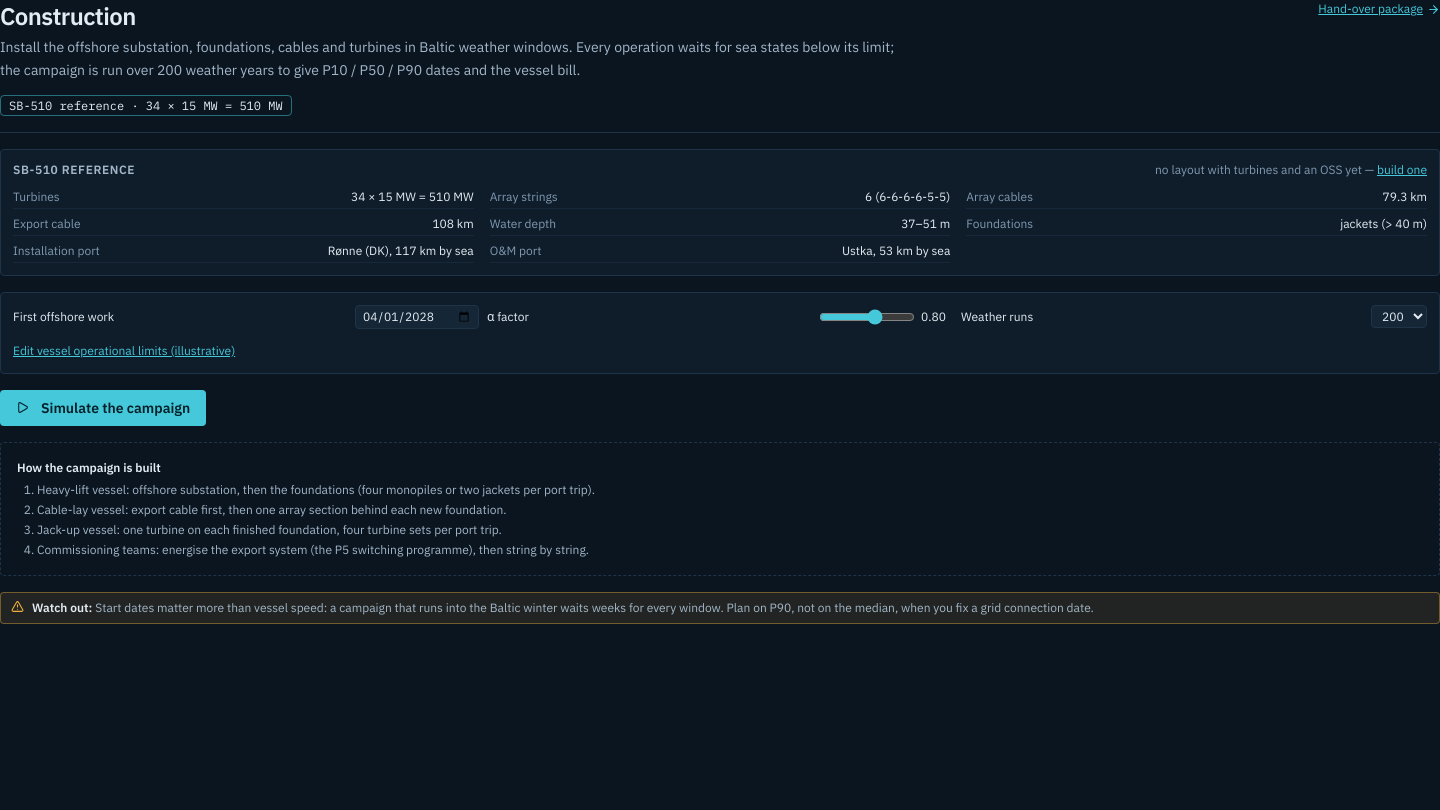
Scenario: lifecycle pages › construction: runs the campaign for SB-510 and shows the milestones
Check: the heading "SB-510 reference" is shown, box left=13, top=162, right=135, bottom=178
Click the button "Simulate the campaign" at x=103, y=408, box left=0, top=390, right=206, bottom=426
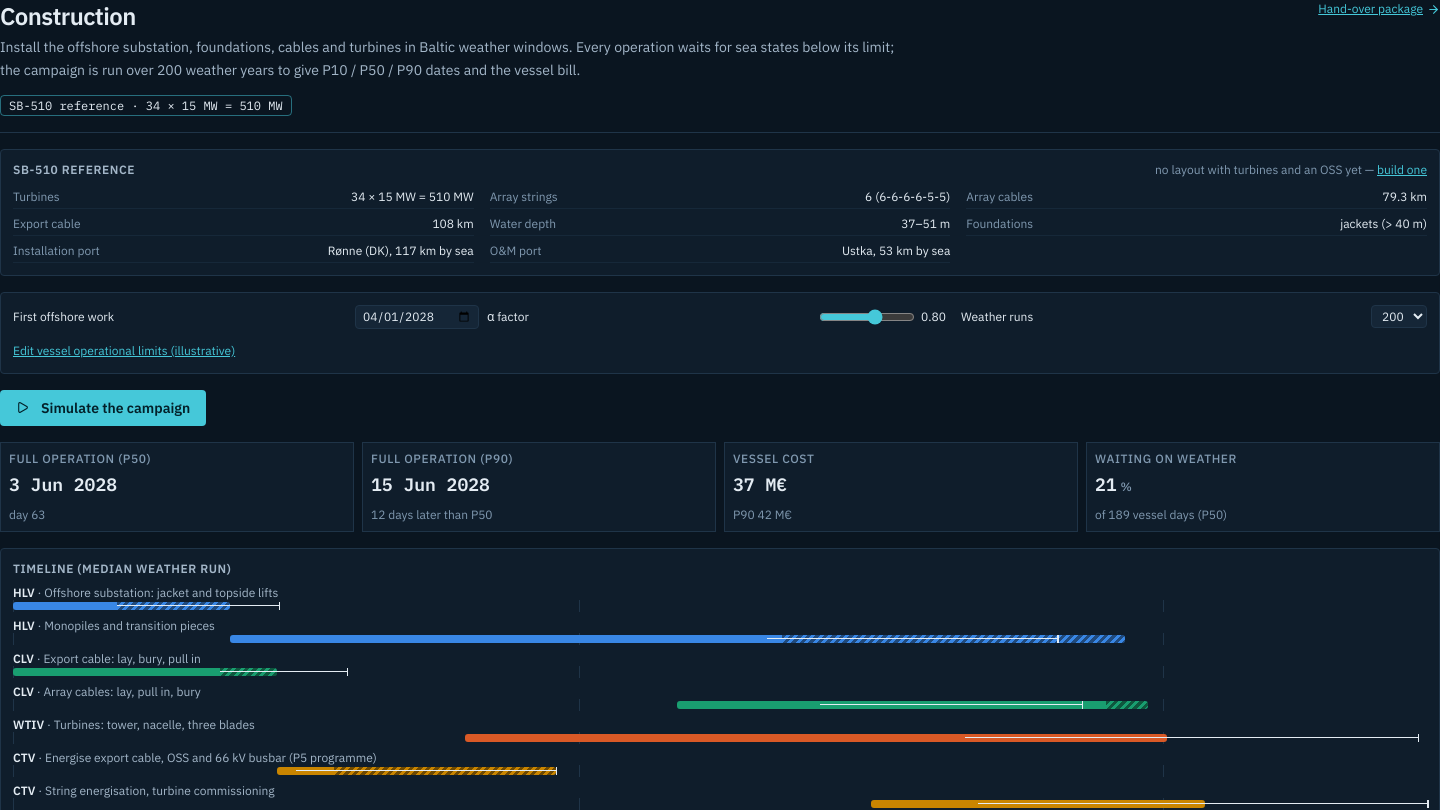
Check: the text "Inputs changed since this result" is not shown
a new start date makes the shown result stale
Type "2028-10-01" into the date field labelled "First offshore work" at x=417, y=316, box left=355, top=304, right=479, bottom=328
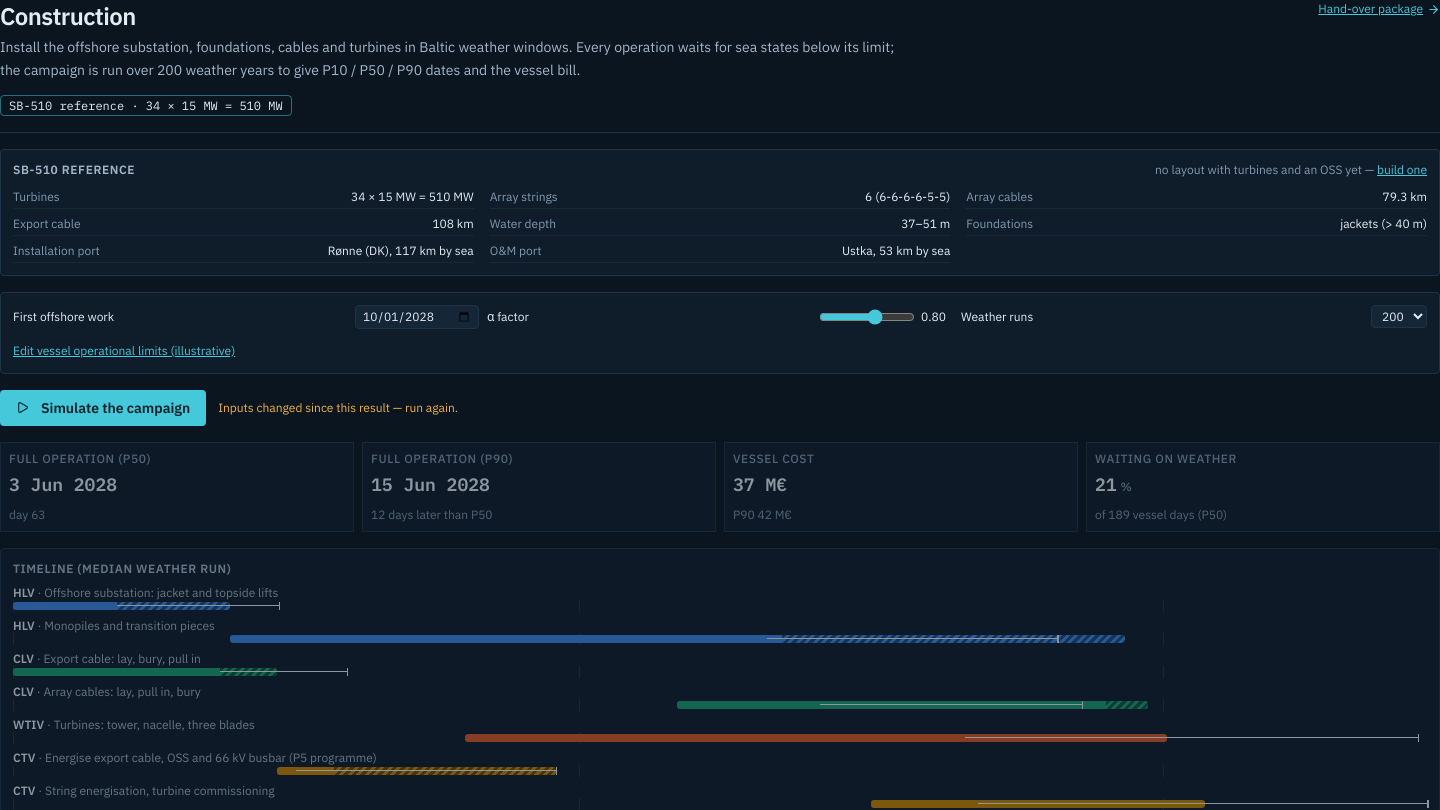
Check: the text "Inputs changed since this result — run again." is shown, box left=218, top=398, right=458, bottom=416
